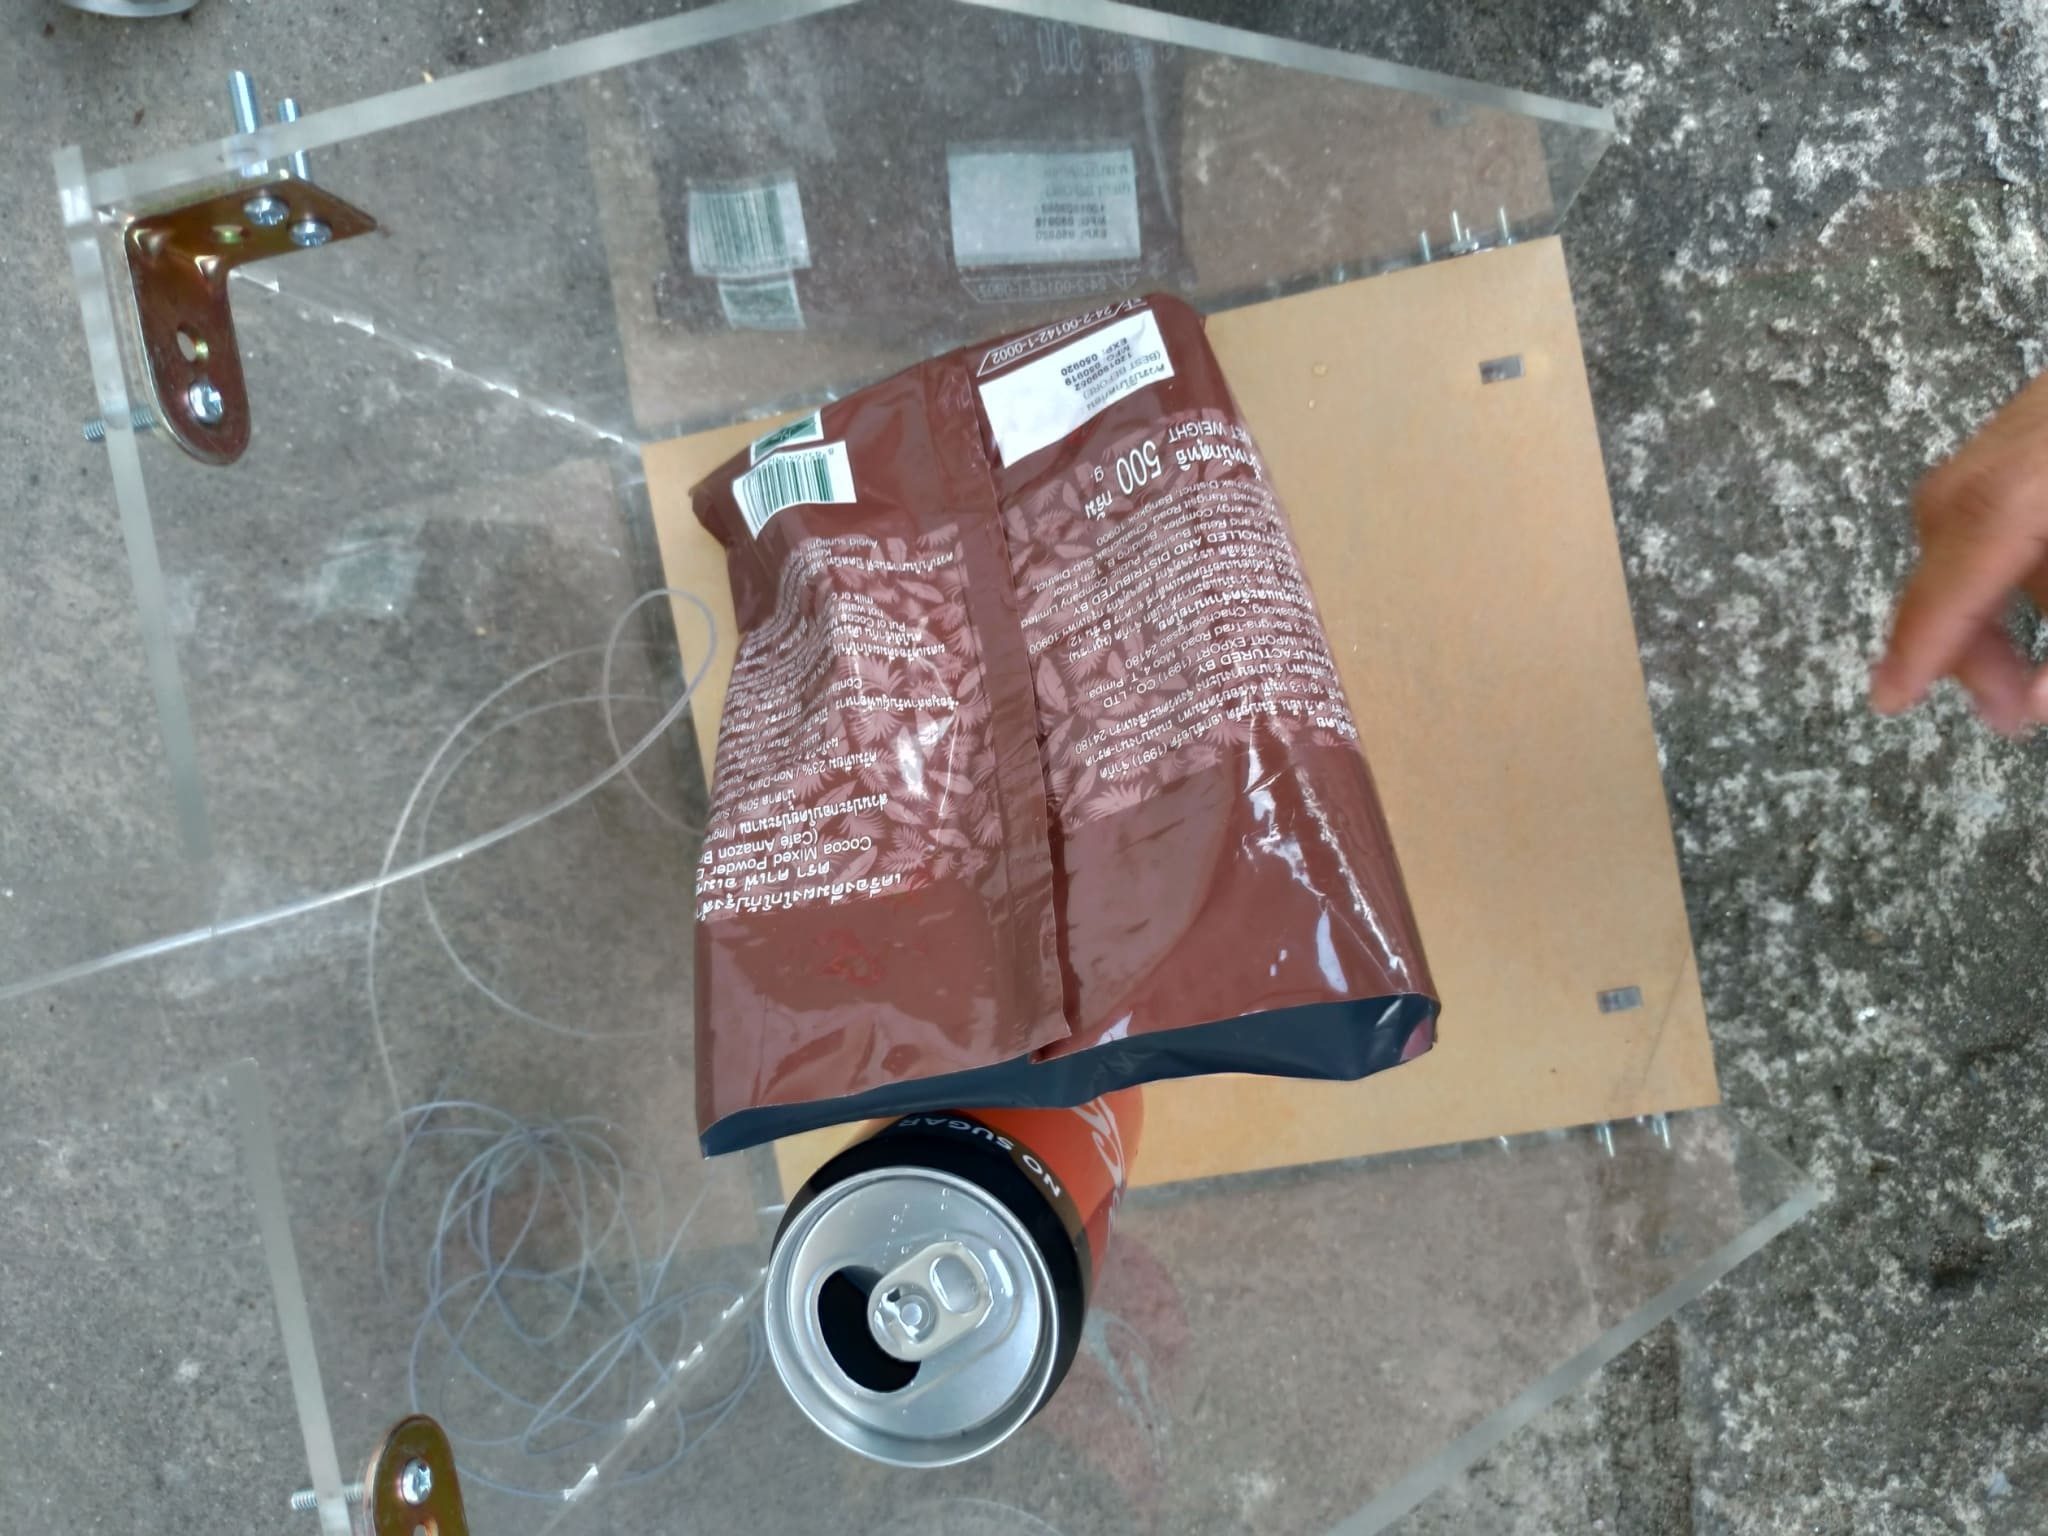AlCan: (764, 1083, 1150, 1471)
Others: (684, 295, 1442, 1137)
